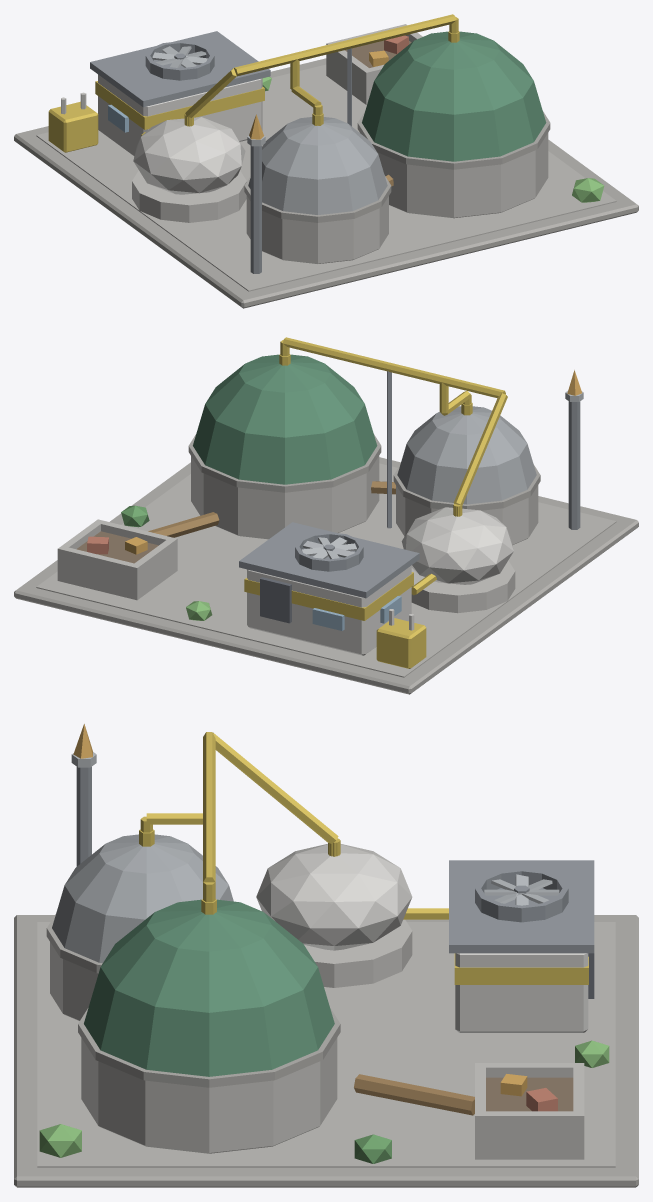
Rendered from energia__biodigestor.glb.
3 renders of one model, top to bottom at view 1: azimuth 30°, elevation 25°; view 2: azimuth 150°, elevation 25°; view 3: azimuth 270°, elevation 25°, orthographic. The views are drawn at different scales.
Parts seen in each view (by area): view 1: energia__biodigestor; view 2: energia__biodigestor; view 3: energia__biodigestor.
Boxes of the visible parts, x1,y1,x2,y2 form: energia__biodigestor: [14, 14, 638, 308]; energia__biodigestor: [14, 337, 638, 694]; energia__biodigestor: [14, 724, 638, 1187].
Bounding box in the file's own units: 4 × 1.66 × 4.
